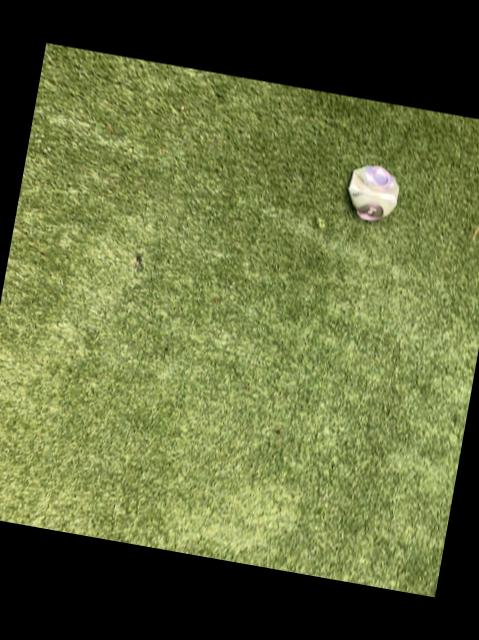metal: (348, 167, 399, 222)
